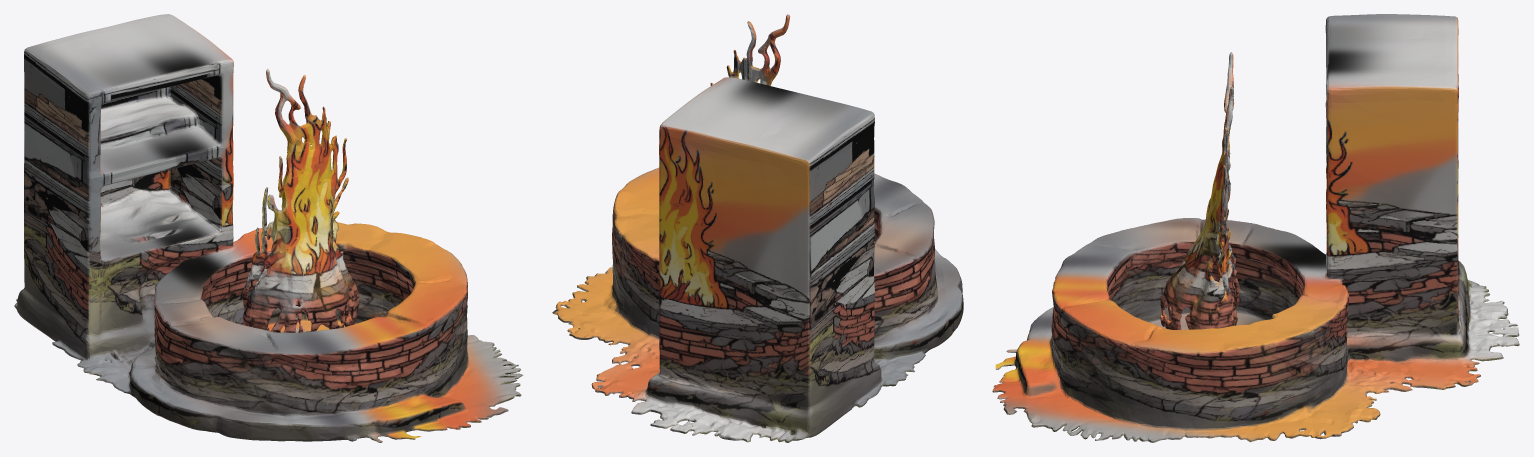
The model's file is bonfire.glb.
3 views of the same model, side by side, from view 1: azimuth 30°, elevation 25°; view 2: azimuth 150°, elevation 25°; view 3: azimuth 270°, elevation 25° (orthographic). The views are drawn at different scales.
Parts seen in each view (by area): view 1: bonfire; view 2: bonfire; view 3: bonfire.
Boxes of the visible parts, x1,y1,x2,y2 form: bonfire: [14, 14, 523, 442]; bonfire: [552, 14, 963, 442]; bonfire: [992, 14, 1519, 442].
Bounding box in the file's own units: 1.68 × 1.41 × 2.24.
1 material, 1 textured.
